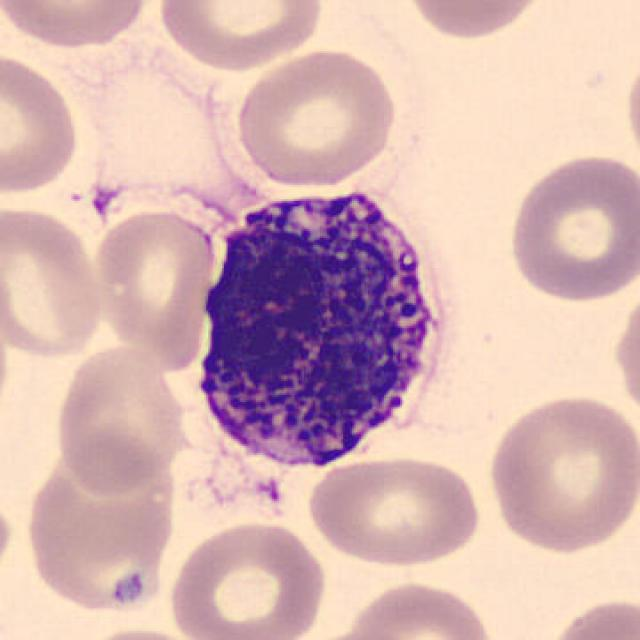Basophil: (181, 174, 464, 488)
Platelets: (109, 568, 150, 608)
RBC: (21, 437, 185, 619), (482, 388, 638, 557), (231, 44, 400, 192), (50, 340, 190, 496), (302, 452, 487, 570), (89, 203, 219, 368), (503, 148, 638, 305), (163, 516, 330, 640), (0, 201, 107, 361), (155, 0, 327, 74), (0, 48, 84, 198), (343, 576, 499, 640), (0, 0, 155, 51), (398, 0, 554, 42), (540, 592, 638, 640), (608, 280, 640, 425), (622, 42, 640, 173), (69, 624, 208, 640), (0, 485, 16, 589), (291, 627, 419, 640)
